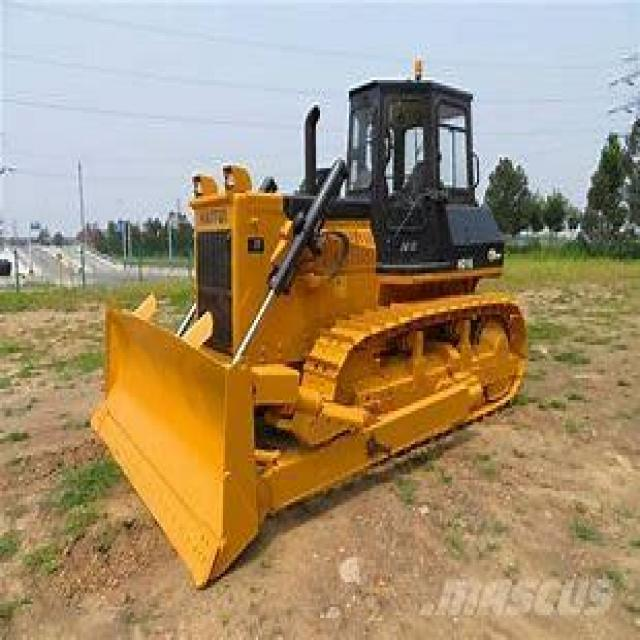Bulldozer: (78, 58, 530, 590)
